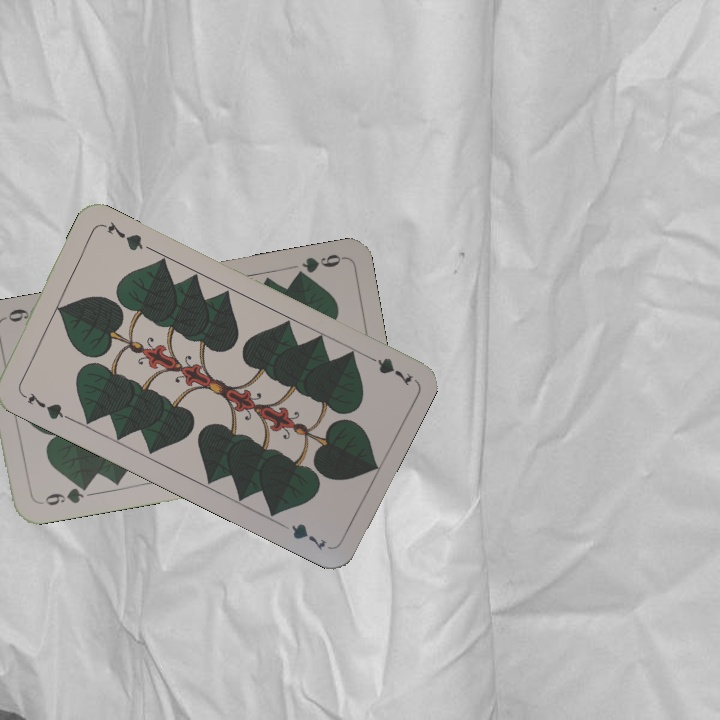G7: (359, 349, 415, 389), (16, 388, 71, 422)
G9: (289, 250, 346, 282), (34, 480, 91, 509)
